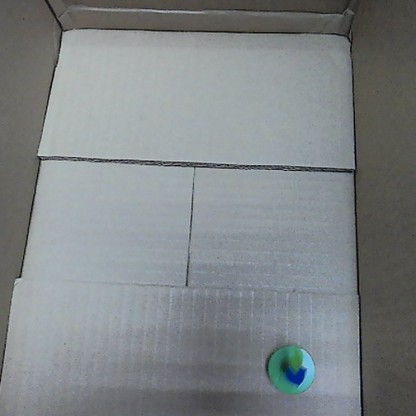leafairy: (265, 342, 317, 396)
